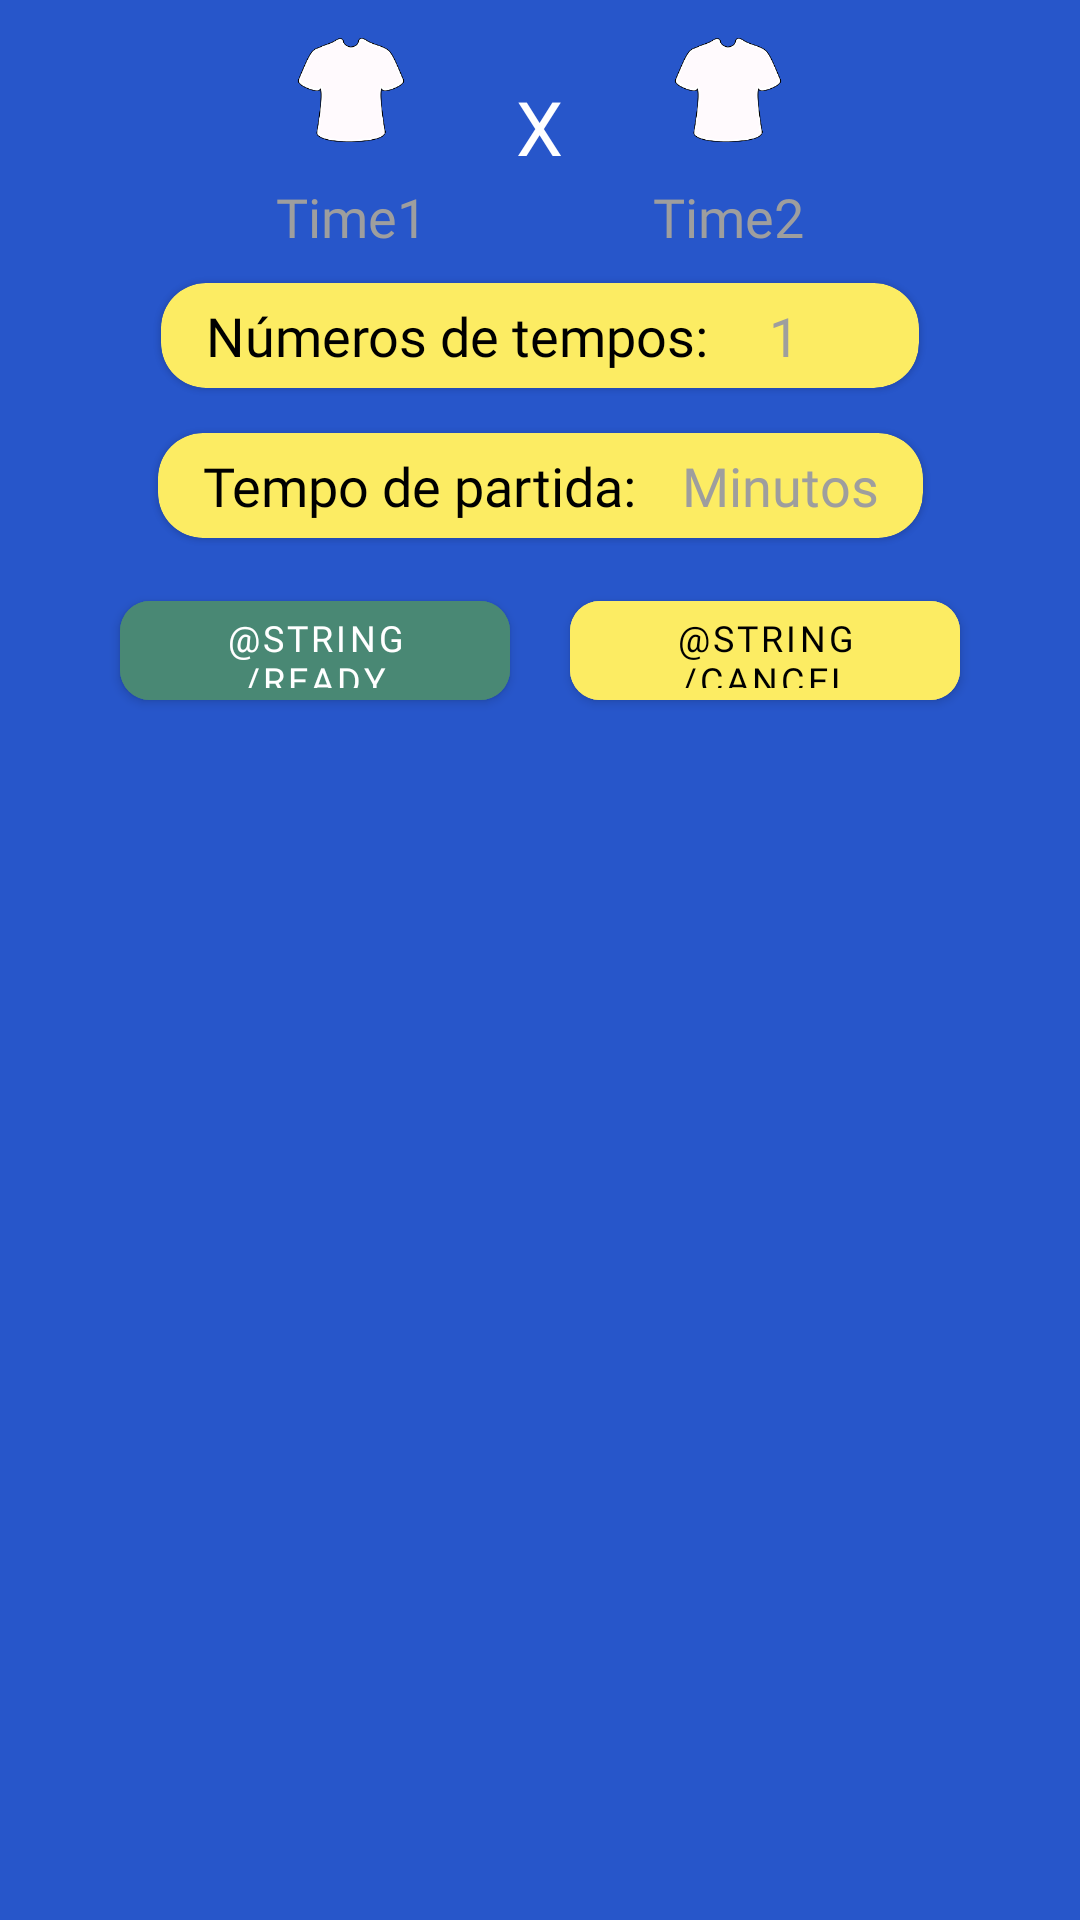

Icons on this 1080px x 1920px Android screen, each with the point to tap as (x=x, y=y):
shirt select: (x=351, y=90), (x=728, y=90)
